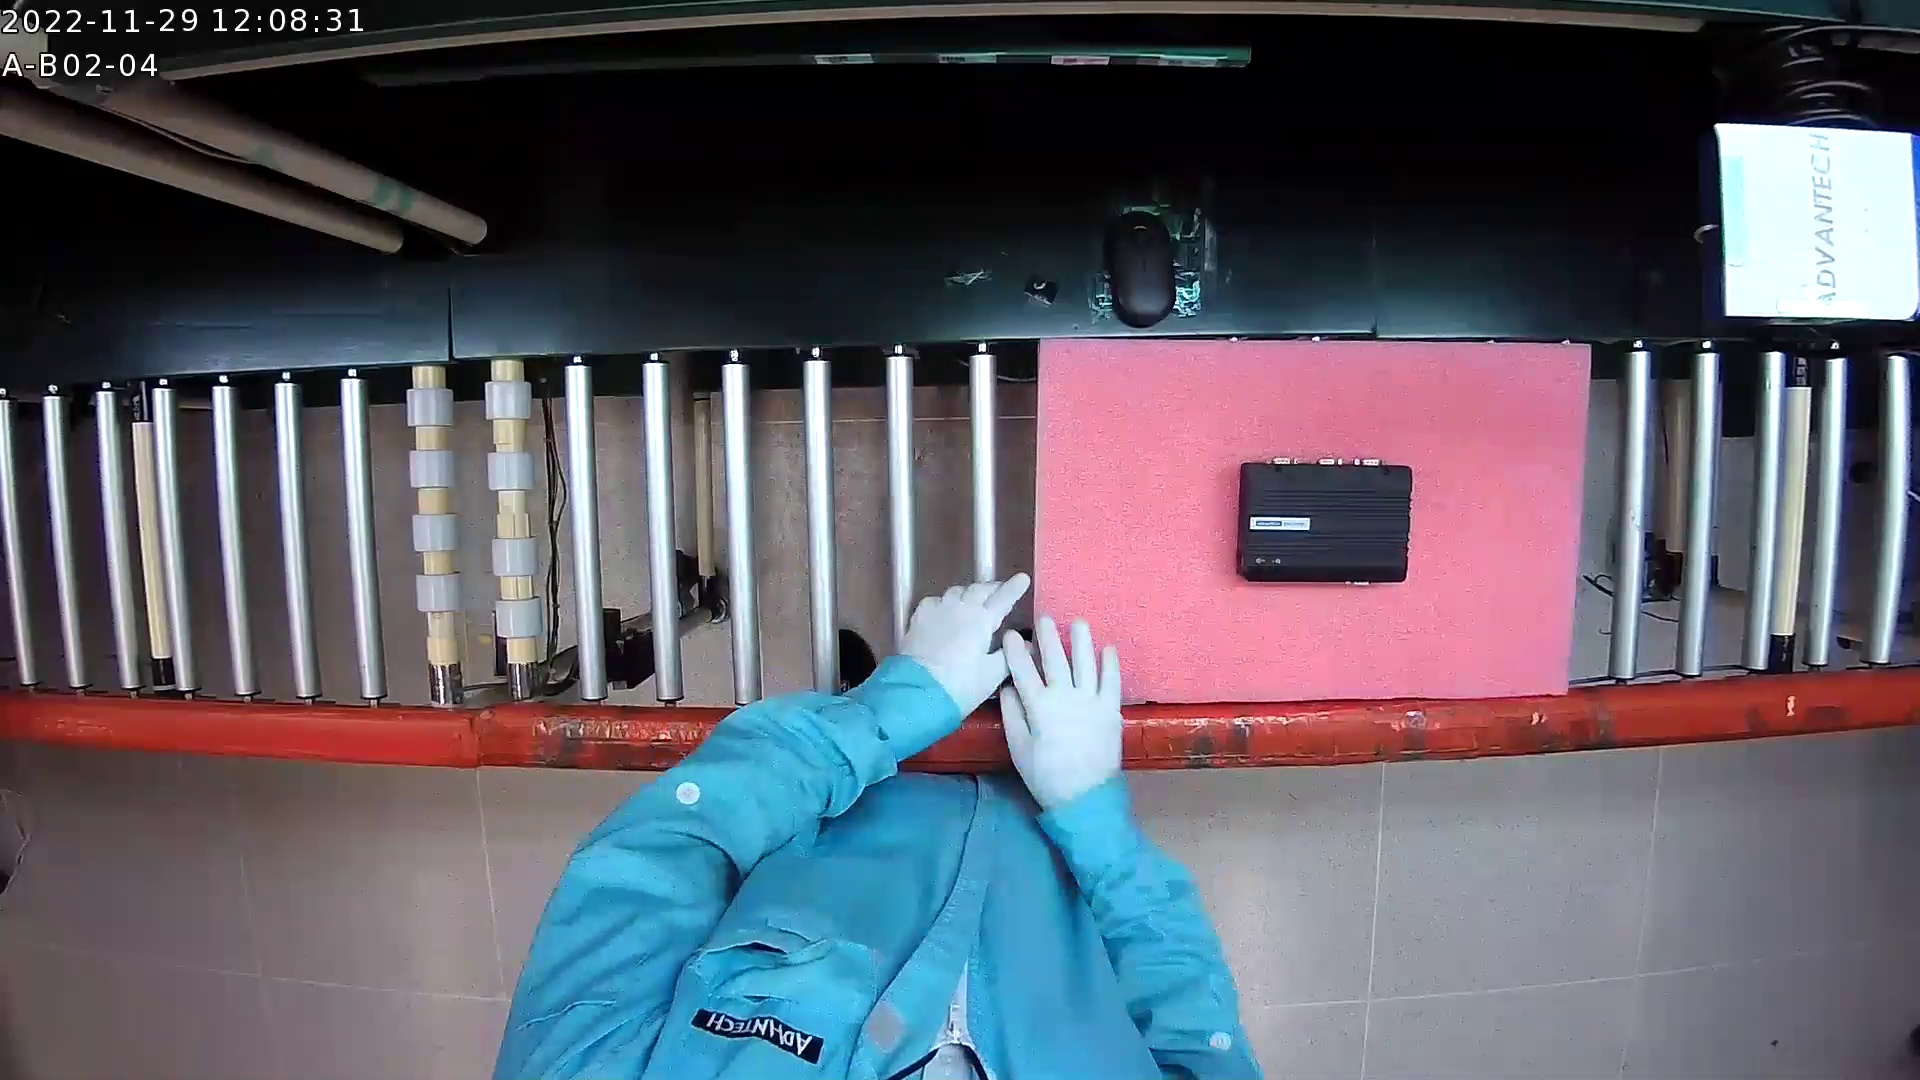foam: (1031, 340, 1596, 702)
hand: (988, 610, 1251, 1043), (619, 569, 1029, 812)
people: (463, 557, 1294, 1079)
